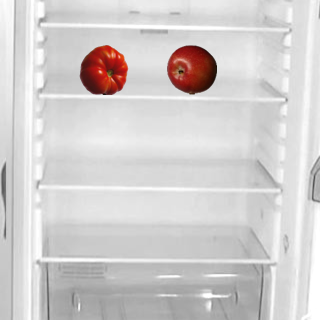Apple Braeburn: (166, 44, 216, 94)
Tomato 3: (78, 44, 128, 94)
